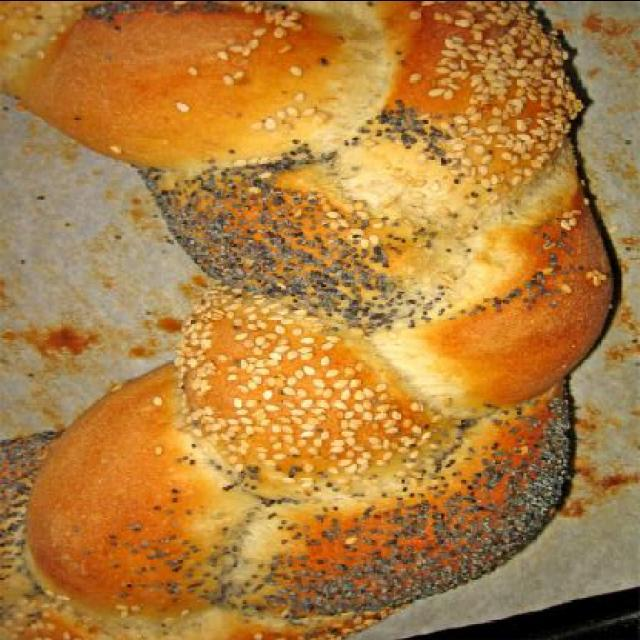Bread: (71, 0, 639, 633)
